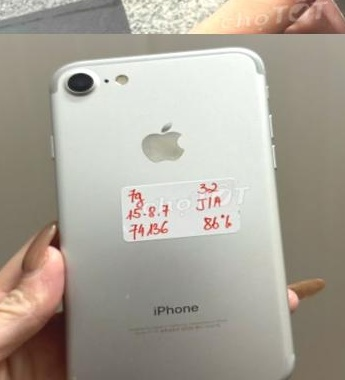scratch: (119, 285, 136, 303)
